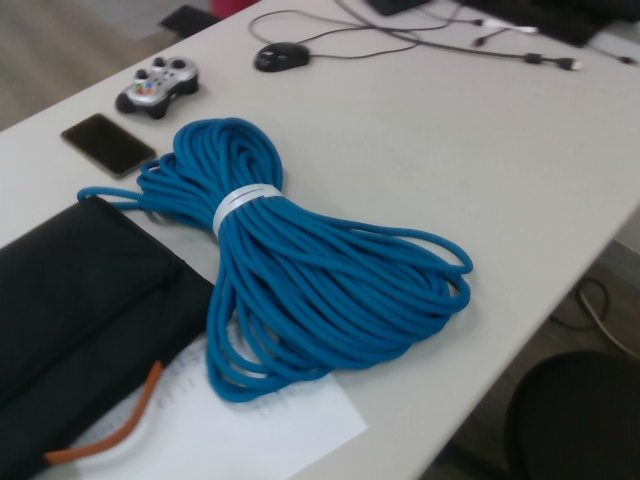rope: (74, 115, 476, 406)
